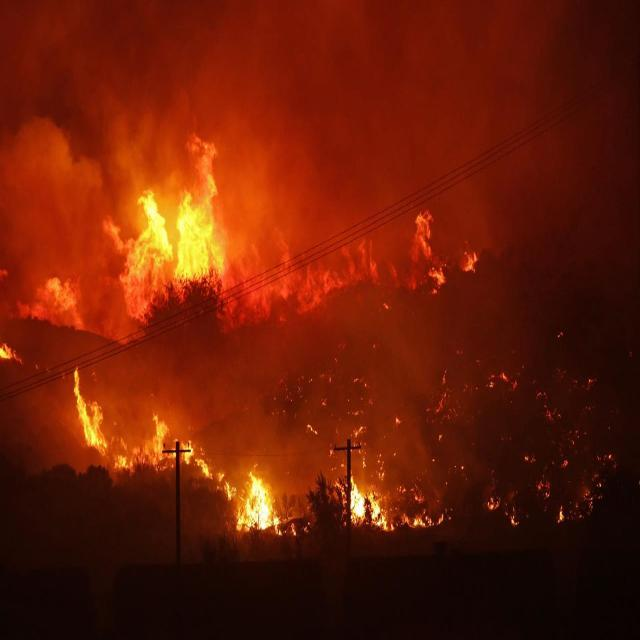Fire: (2, 144, 614, 525)
Smoke: (0, 0, 631, 260)
